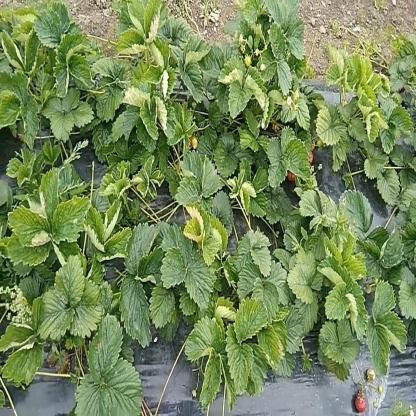ripe: (286, 161, 298, 183), (355, 393, 366, 412), (309, 152, 313, 162)
unripe: (245, 54, 251, 67), (192, 138, 198, 150), (317, 139, 322, 147)
